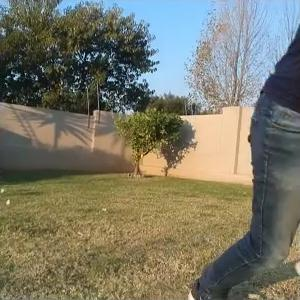follow: (185, 0, 298, 298)
